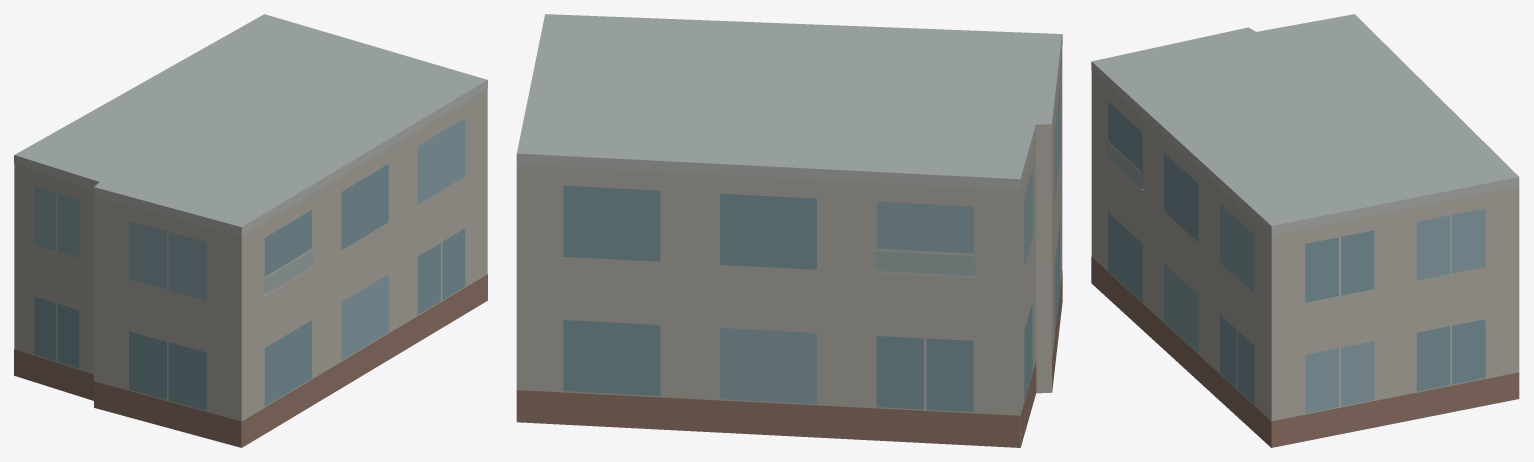
File: survey-upis-32653160.glb
3 views of the same model, side by side, from view 1: azimuth 30°, elevation 25°; view 2: azimuth 150°, elevation 25°; view 3: azimuth 270°, elevation 25° (orthographic). The views are drawn at different scales.
Visible parts, largest first — view 1: survey-upis-32653160.tmp; view 2: survey-upis-32653160.tmp; view 3: survey-upis-32653160.tmp.
Part boxes in pixels (x1,y1,x2,y2): survey-upis-32653160.tmp: [14, 14, 487, 447]; survey-upis-32653160.tmp: [516, 14, 1062, 447]; survey-upis-32653160.tmp: [1091, 14, 1519, 447].
Bounding box in the file's own units: 12.51 × 6.1 × 10.67.
